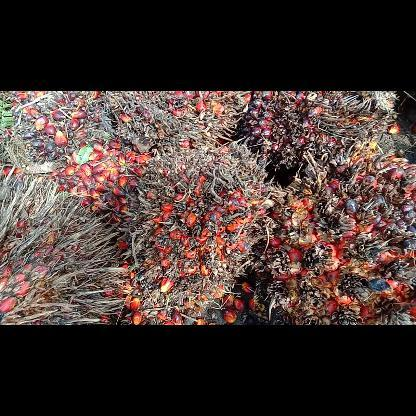Terlalu masak: (252, 144, 416, 324), (115, 142, 284, 300), (0, 172, 136, 324), (242, 90, 400, 172), (104, 91, 256, 155)
